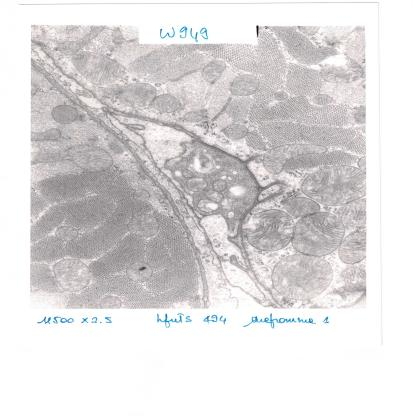mitochondria: (270, 253, 334, 302), (300, 164, 366, 206), (292, 211, 346, 256), (244, 209, 295, 252), (261, 142, 329, 174), (73, 50, 126, 86), (52, 258, 93, 293), (65, 144, 115, 172), (58, 26, 106, 53), (320, 56, 364, 83), (336, 196, 366, 229), (338, 230, 366, 264), (121, 82, 158, 107), (336, 266, 366, 294), (126, 214, 160, 238), (284, 197, 322, 217), (228, 74, 262, 96), (50, 103, 80, 125), (201, 60, 228, 84), (125, 261, 154, 283), (150, 94, 183, 113), (31, 128, 62, 142), (223, 124, 249, 140), (54, 225, 78, 242), (182, 108, 209, 122), (196, 198, 221, 212), (185, 177, 207, 192), (312, 93, 335, 106), (98, 296, 122, 308), (133, 188, 152, 202), (203, 190, 225, 202), (212, 180, 227, 192), (356, 155, 366, 172), (274, 91, 288, 101)
